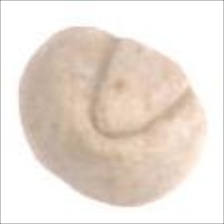L5: (84, 35, 195, 138)
L6: (15, 26, 209, 210)
